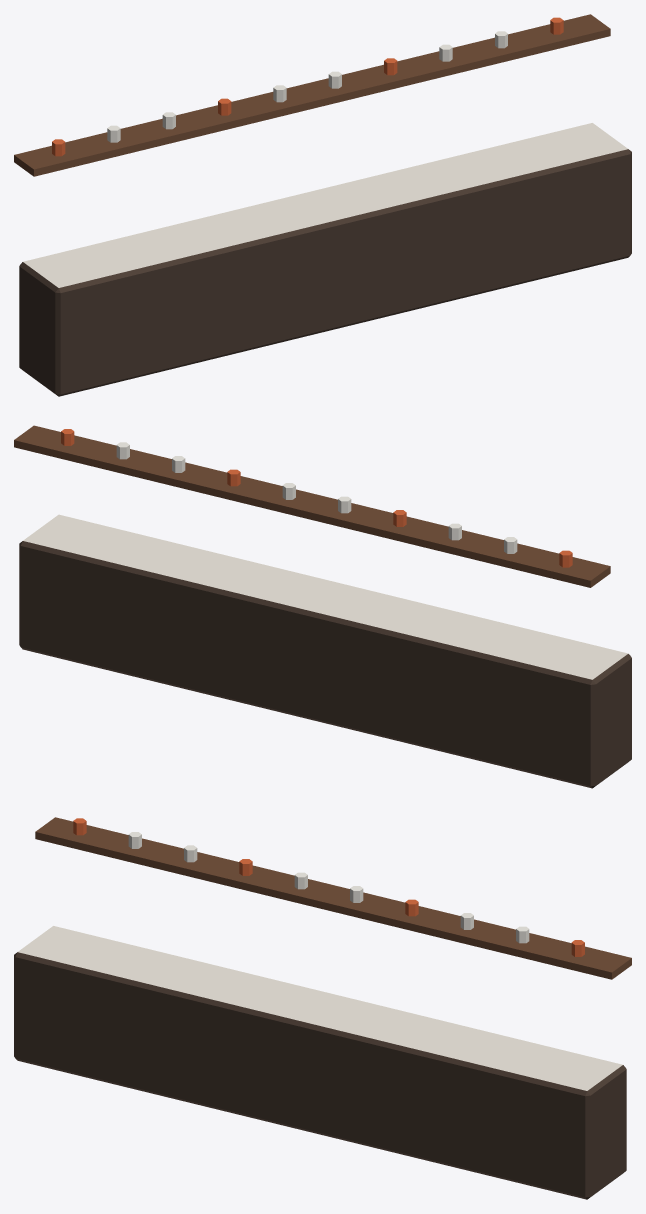
The model's file is back_bar.fbx.
3 views of the same model, one above another, from view 1: azimuth 30°, elevation 25°; view 2: azimuth 150°, elevation 25°; view 3: azimuth 330°, elevation 25° (orthographic).
Visible parts, largest first — view 1: back_bar; view 2: back_bar; view 3: back_bar.
Part boxes in pixels (x1,y1,x2,y2): back_bar: (14,14,631,396); back_bar: (14,425,631,788); back_bar: (14,817,631,1199).
Bounding box in the file's own units: 5 × 1.86 × 0.65.
